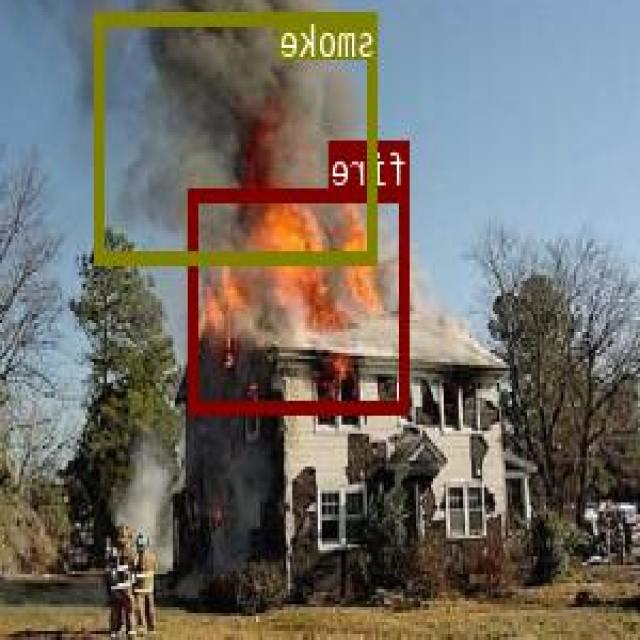fire: (191, 188, 411, 411)
smoke: (97, 9, 379, 260)
